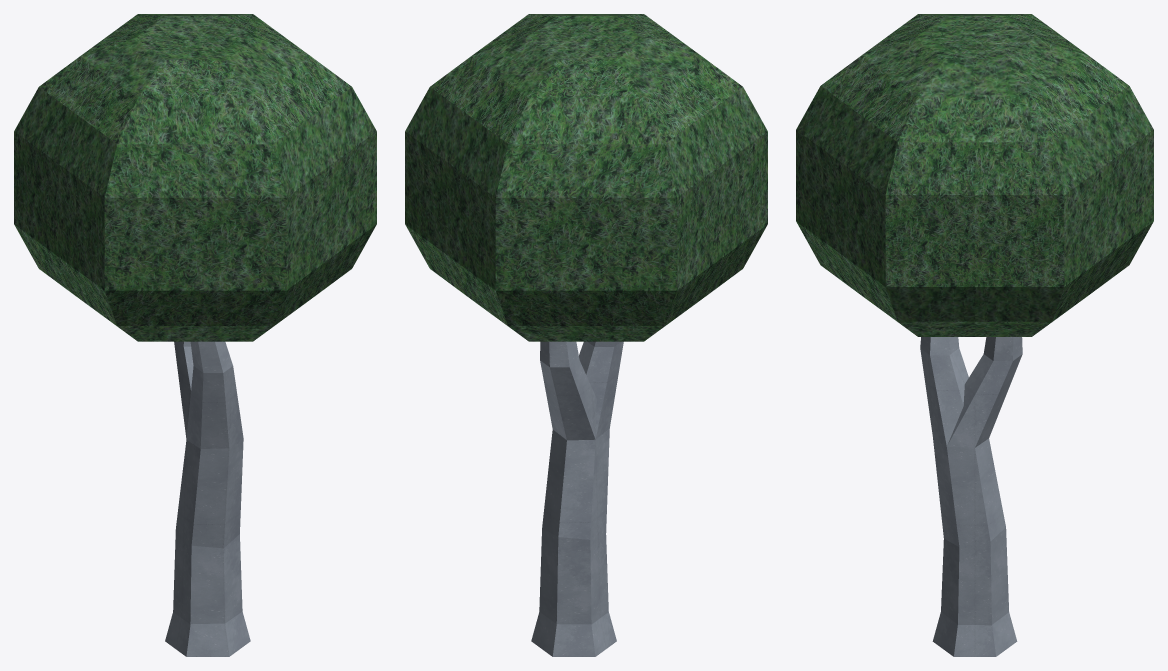
File: Oak_Tree_2.fbx
3 renders of one model, left to right at view 1: azimuth 30°, elevation 25°; view 2: azimuth 150°, elevation 25°; view 3: azimuth 270°, elevation 25°, orthographic.
Visible parts, largest first — view 1: Tree_Oak_2; view 2: Tree_Oak_2; view 3: Tree_Oak_2.
Part boxes in pixels (bbox=[...]): Tree_Oak_2: bbox=[14, 14, 376, 656]; Tree_Oak_2: bbox=[405, 14, 767, 656]; Tree_Oak_2: bbox=[796, 14, 1153, 656].
Bounding box in the file's own units: 21.97 × 46.78 × 25.37.
